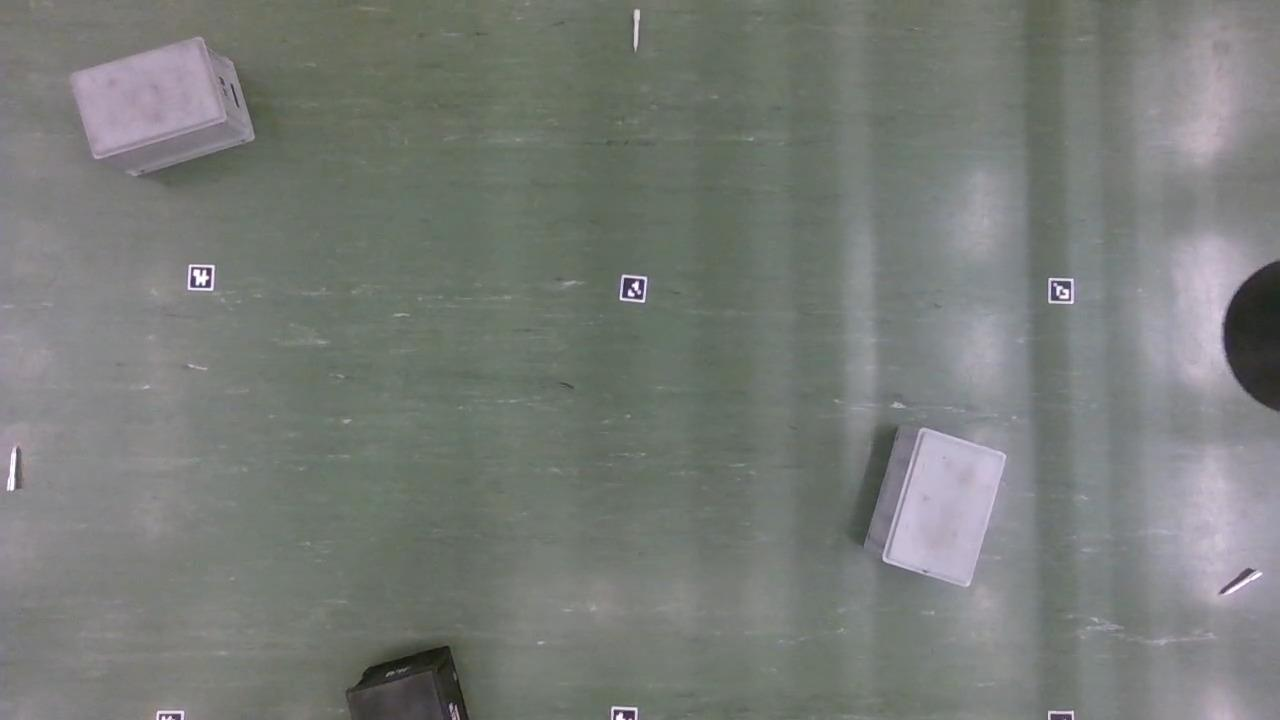probes: (1221, 569, 1259, 598), (10, 447, 21, 493)
rako: (70, 38, 255, 180), (856, 428, 1006, 591), (346, 647, 469, 720)
